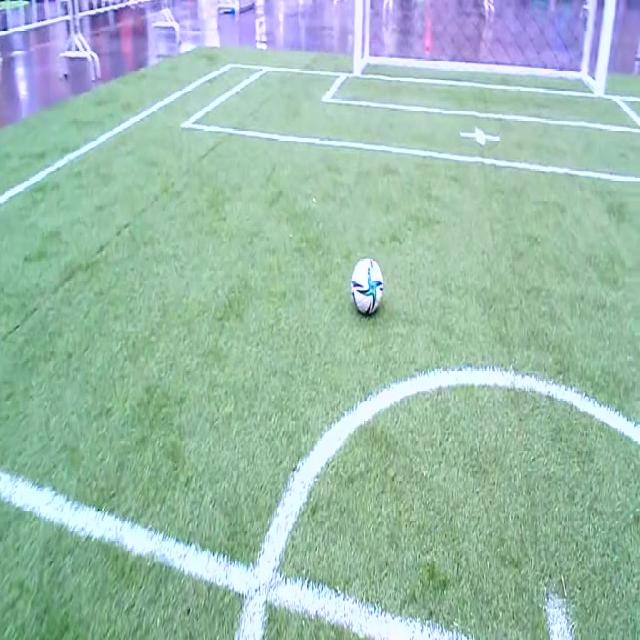ball: (351, 258, 383, 315)
